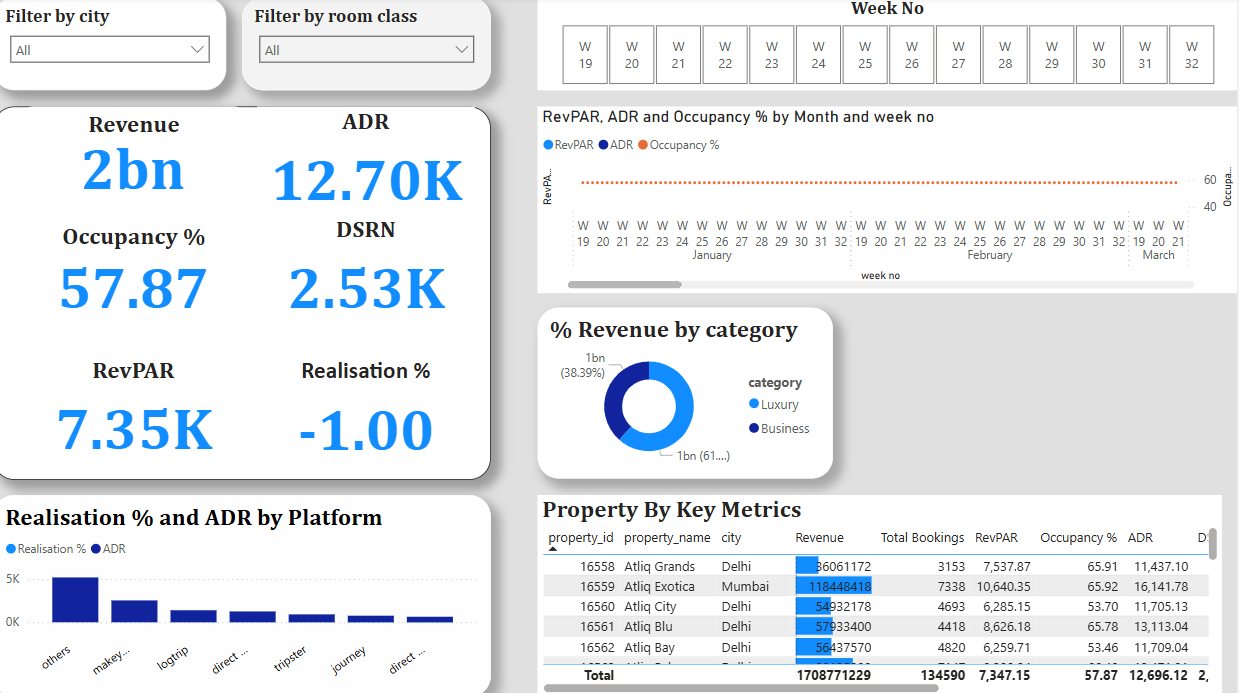

Layout of this report page (visuals, bound fields, positions):
{"tool":"powerbi","page":{"name":"Page 3","canvas":[1280,720],"ordinal":2},"visuals":[{"type":"slicer","title":"Filter by city","fields":{"Values":["dim_hotels.city"]},"box":[0,0,240,96],"z":0},{"type":"slicer","title":"Filter by room class","fields":{"Values":["dim_rooms.room_class"]},"box":[256,0,256,96],"z":1000},{"type":"shape","box":[0,112,512,384],"z":2000},{"type":"card","title":"Revenue","fields":{"Values":["dim_date.Revenue"]},"box":[32,112,224,112],"z":3000},{"type":"card","title":"Occupancy %","fields":{"Values":["dim_date.Occupancy %"]},"box":[32,224,224,112],"z":4000},{"type":"card","title":"RevPAR","fields":{"Values":["dim_date.RevPAR"]},"box":[32,368,224,112],"z":5000},{"type":"card","title":"ADR","fields":{"Values":["dim_date.ADR"]},"box":[272,112,224,112],"z":6000},{"type":"card","title":"DSRN","fields":{"Values":["dim_date.DSRN"]},"box":[272,224,224,112],"z":7000},{"type":"card","title":"Realisation %","fields":{"Values":["dim_date.Realisation %"]},"box":[272,368,224,112],"z":8000},{"type":"lineStackedColumnComboChart","title":"Realisation % and ADR by Platform","fields":{"Y":["dim_date.Realisation %","dim_date.ADR"],"Category":["fact_bookings.booking_platform"]},"box":[0,512,512,208],"z":9000},{"type":"donutChart","title":"% Revenue by category","fields":{"Y":["dim_date.Revenue"],"Category":["dim_hotels.category"]},"box":[560,320,304,176],"z":10000},{"type":"tableEx","title":"Property By Key Metrics","fields":{"Values":["dim_hotels.property_id","dim_hotels.property_name","dim_hotels.city","dim_date.Revenue","dim_date.Total Bookings","dim_date.RevPAR","dim_date.Occupancy %","dim_date.ADR","dim_date.DSRN","dim_date.DBRN","dim_date.DURN","dim_date.Realisation %"]},"box":[560,512,704,208],"z":11000},{"type":"slicer","title":"Week No","fields":{"Values":["dim_date.week no"]},"box":[560,0,720,96],"z":12000},{"type":"lineChart","fields":{"Category":["dim_date.mmm yy.Variation.Date Hierarchy.Month","dim_date.week no"],"Y":["dim_date.RevPAR","dim_date.ADR"],"Y2":["dim_date.Occupancy %"]},"box":[560,112,720,192],"z":13000}]}

Visuals, with their boxes in screenshot pixels (x1, y1, x2, y2), scaled from the page's 1280x720 canvas onto the 1239x693 screenshot:
"Filter by city" slicer: rect(0, 0, 232, 92)
"Filter by room class" slicer: rect(248, 0, 496, 92)
shape: rect(0, 108, 496, 477)
"Revenue" card: rect(31, 108, 248, 216)
"Occupancy %" card: rect(31, 216, 248, 323)
"RevPAR" card: rect(31, 354, 248, 462)
"ADR" card: rect(263, 108, 480, 216)
"DSRN" card: rect(263, 216, 480, 323)
"Realisation %" card: rect(263, 354, 480, 462)
"Realisation % and ADR by Platform" lineStackedColumnComboChart: rect(0, 493, 496, 692)
"% Revenue by category" donutChart: rect(542, 308, 836, 477)
"Property By Key Metrics" tableEx: rect(542, 493, 1224, 692)
"Week No" slicer: rect(542, 0, 1238, 92)
lineChart - dim_date.mmm yy.Variation.Date Hierarchy.Month x dim_date.week no: rect(542, 108, 1238, 293)
